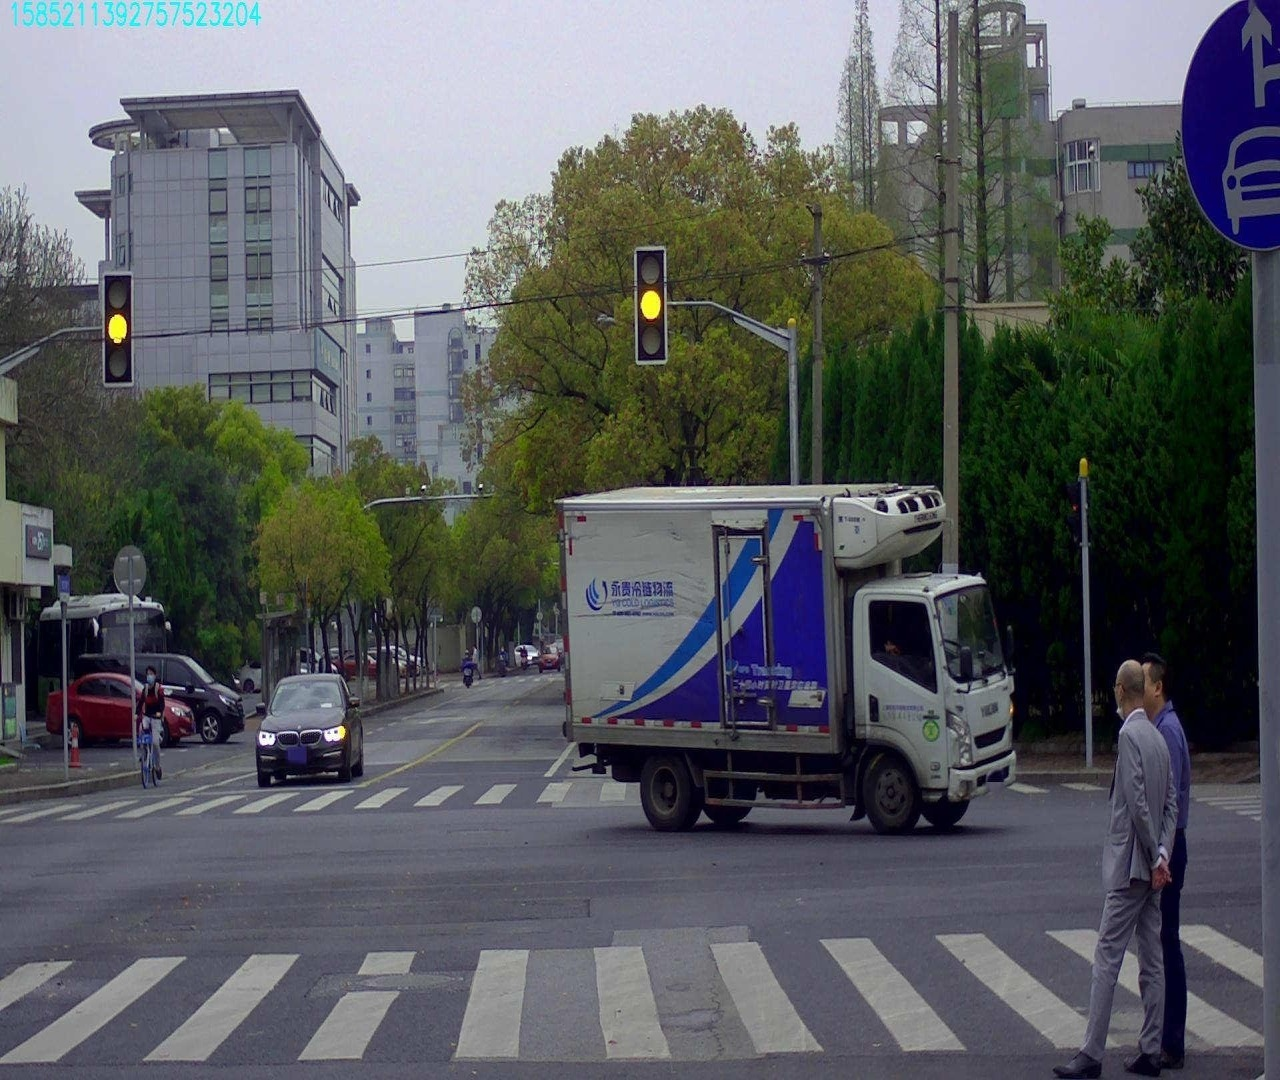yellow: (635, 249, 666, 363), (103, 272, 132, 386)
